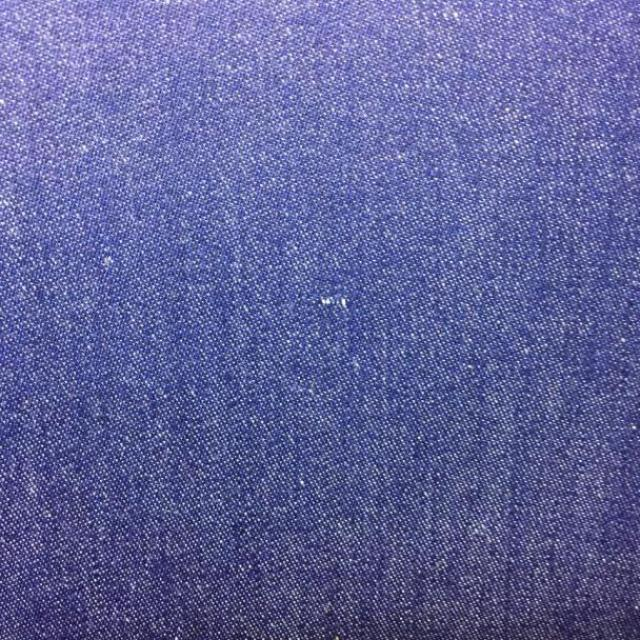Knot: (321, 297, 351, 309)
